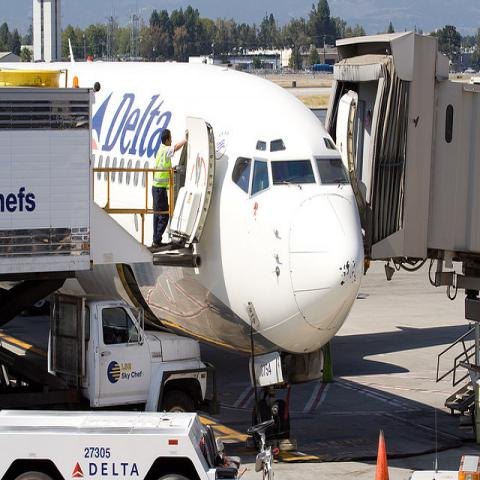truck: (0, 85, 95, 404), (53, 291, 206, 406), (0, 409, 243, 475)
